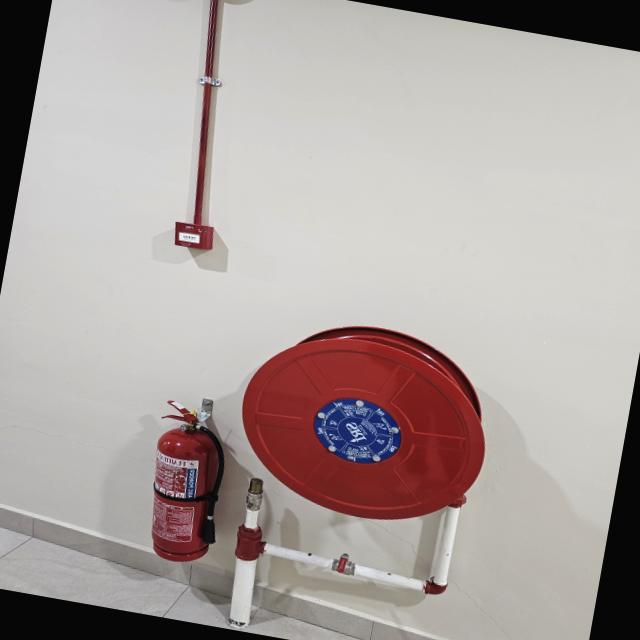obstacle: (214, 309, 497, 640), (131, 388, 242, 570)
